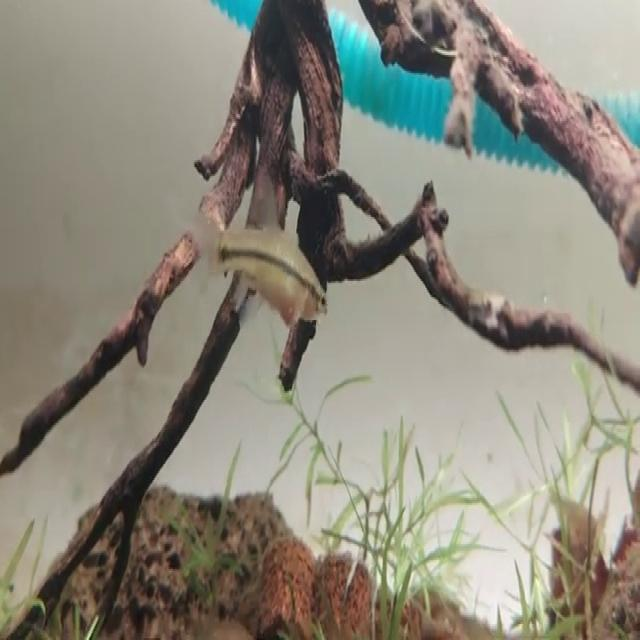Cakil Baligi: (188, 169, 330, 334)
